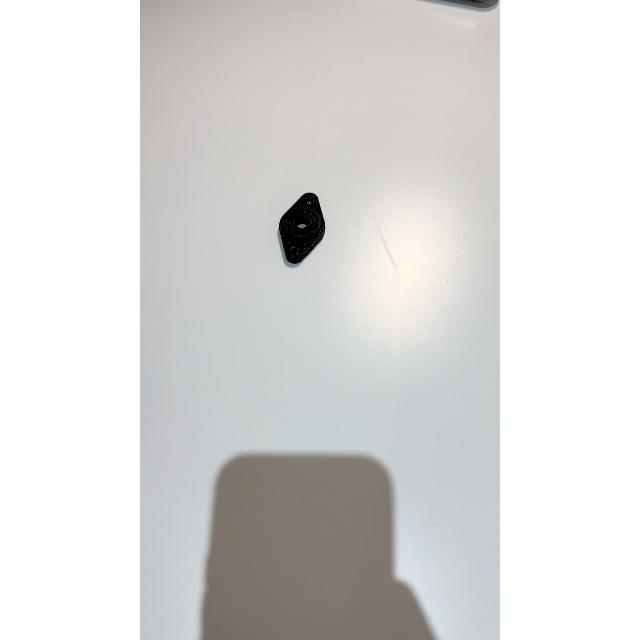Pieza_2: (260, 180, 332, 274)
